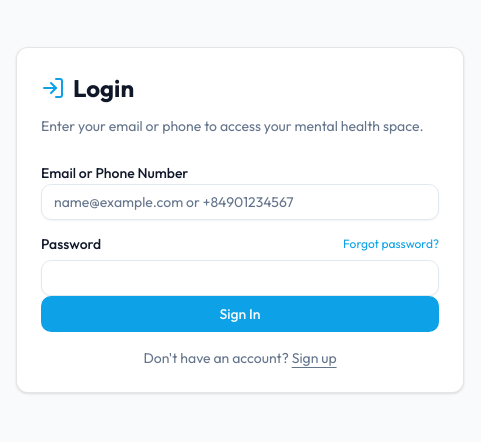
Test: app/login › shows destructive alert when login fails
Type "0901234567" into the field labelled "Email or Phone Number". click: (240, 202)
box: [41, 184, 439, 220]
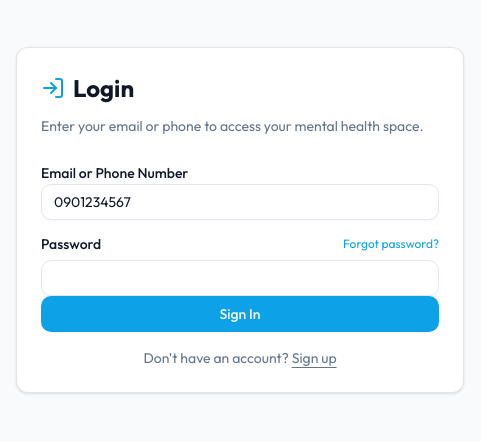
Type "wrongpass1" into the password field labelled "Password". click: (240, 278)
box: [41, 260, 439, 296]
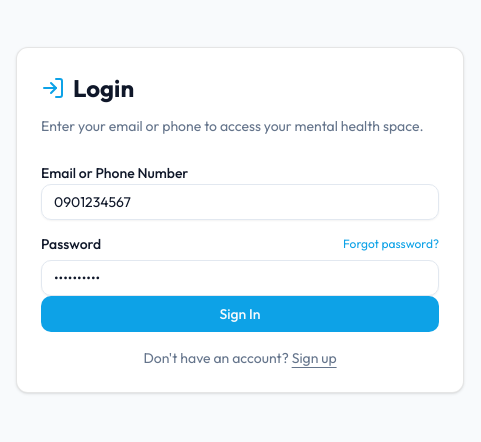
Click the button "Sign In". click: click(240, 314)
box: [41, 296, 439, 332]
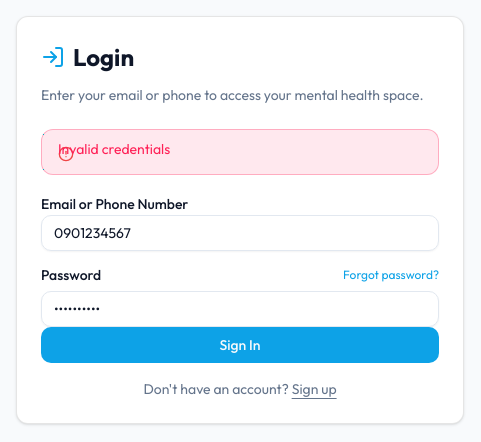
Expected: the message reads "Invalid credentials", [58, 140, 170, 158]
